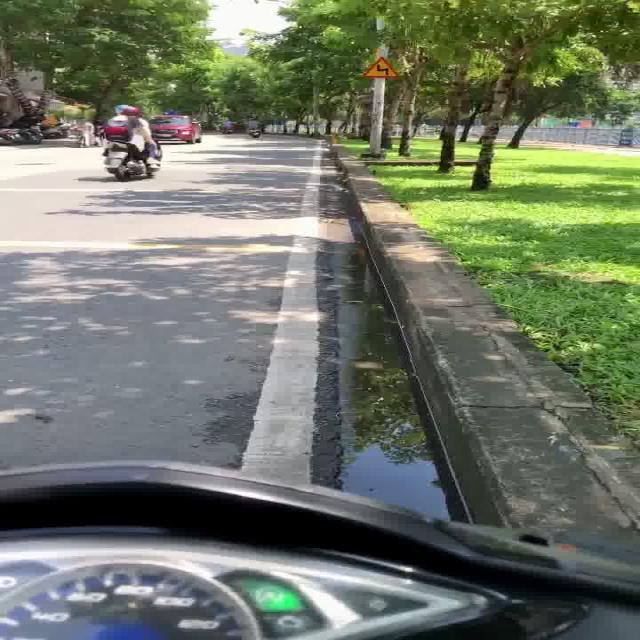Bien bao nhieu cho ngoat nguy hiem lien tiep: (356, 54, 406, 80)
